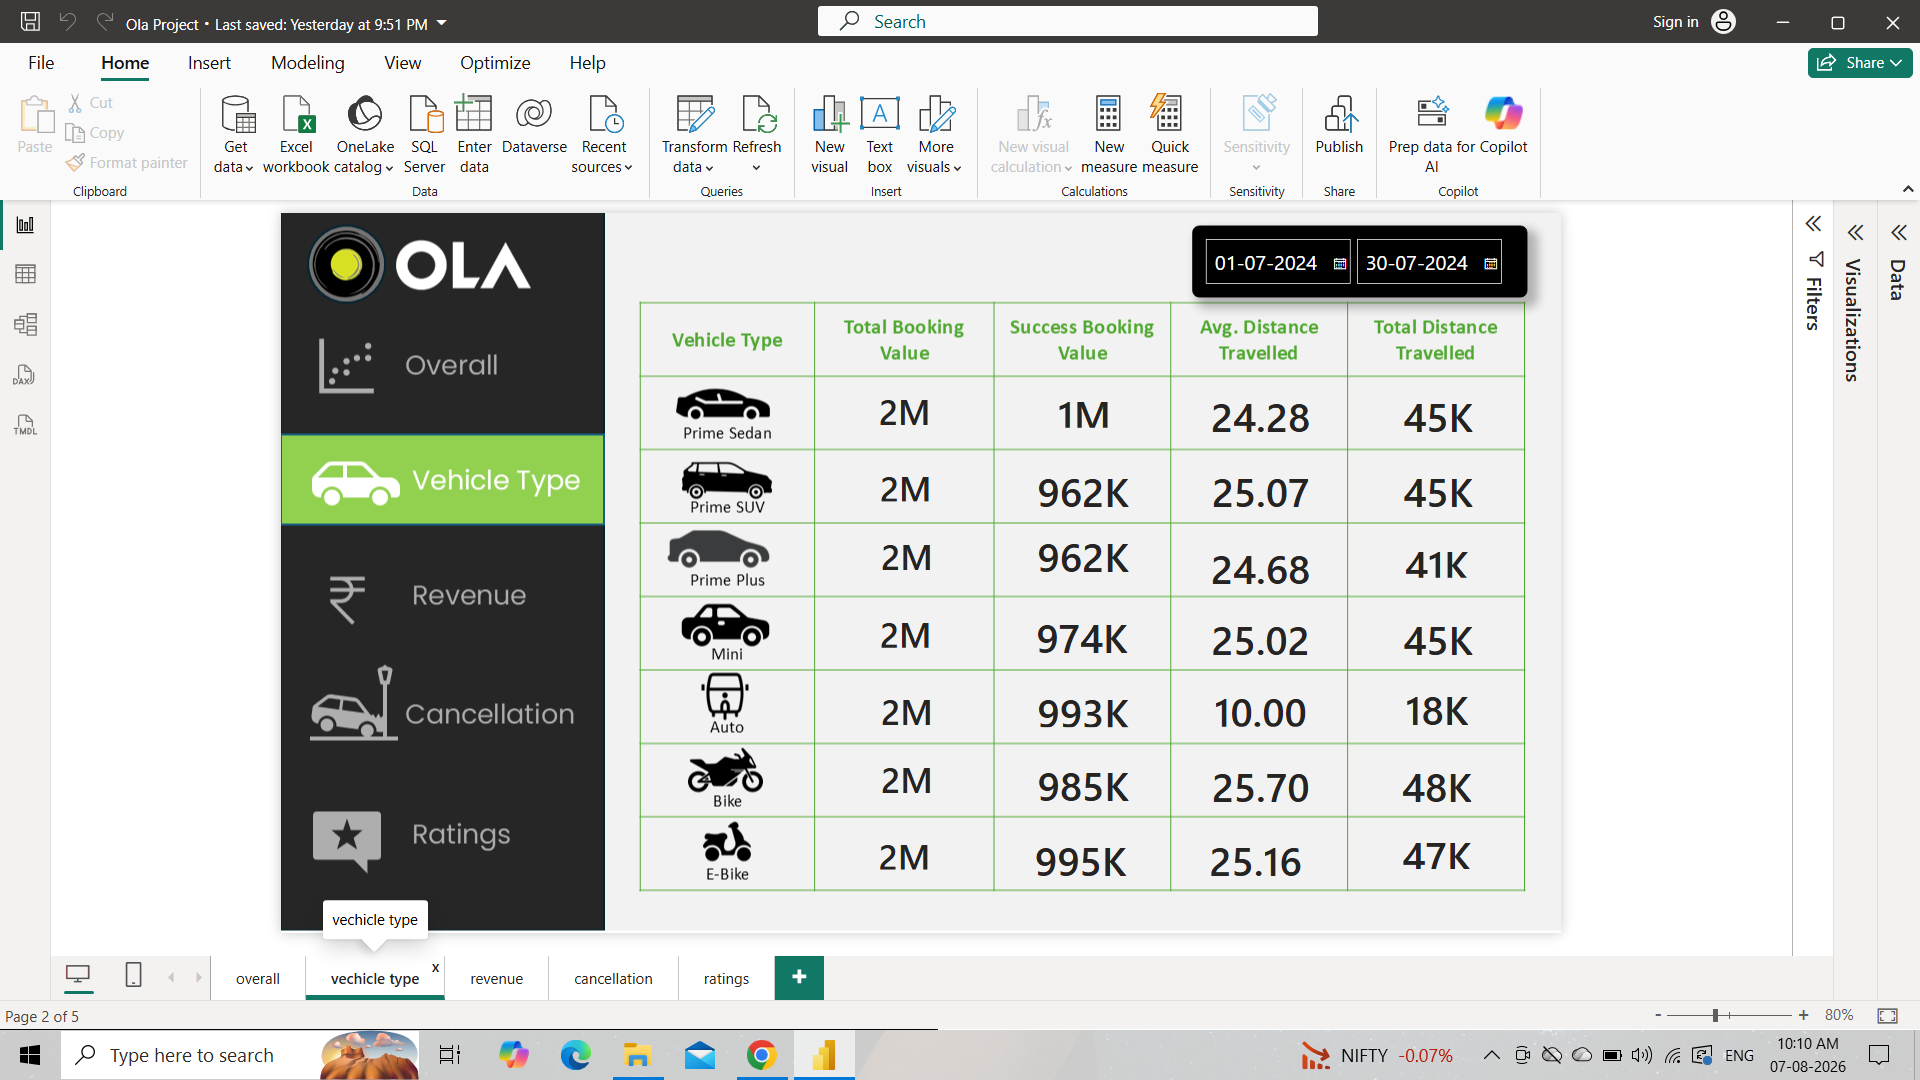

Layout of this report page (visuals, bound fields, positions):
{"tool":"powerbi","page":{"name":"vechicle type","canvas":[1280,720],"ordinal":1},"visuals":[{"type":"actionButton","box":[0,206.2,324,131.2],"z":0},{"type":"actionButton","box":[0,104.4,324,96.4],"z":1000},{"type":"actionButton","box":[0,337.4,324,96.4],"z":2000},{"type":"actionButton","box":[0,433.8,324,123.2],"z":3000},{"type":"actionButton","box":[0,575.7,324,144.6],"z":4000},{"type":"cardVisual","fields":{"Data":["Sum(booking2-July.Booking_Value)"]},"box":[534.5,163.1,177.4,69],"z":5000},{"type":"cardVisual","fields":{"Data":["Sum(booking2-July.Booking_Value)"]},"box":[535.2,237.4,177.4,69],"z":6000},{"type":"cardVisual","fields":{"Data":["Sum(booking2-July.Booking_Value)"]},"box":[533.8,607.9,177,67.2],"z":7000},{"type":"cardVisual","fields":{"Data":["Sum(booking2-July.Booking_Value)"]},"box":[536.5,529.7,177,68.6],"z":8000},{"type":"cardVisual","fields":{"Data":["Sum(booking2-July.Booking_Value)"]},"box":[536.5,461.1,177.4,69],"z":9000},{"type":"cardVisual","fields":{"Data":["Sum(booking2-July.Booking_Value)"]},"box":[535.2,384.2,177.4,69],"z":10000},{"type":"cardVisual","fields":{"Data":["Sum(booking2-July.Booking_Value)"]},"box":[536.5,306,177.4,69],"z":11000},{"type":"cardVisual","fields":{"Data":["Sum(booking2-July.Booking_Value)"]},"box":[713.6,163.3,177.4,69],"z":12000},{"type":"cardVisual","fields":{"Data":["Sum(booking2-July.Booking_Value)"]},"box":[713.1,238.1,177.4,76.2],"z":13000},{"type":"cardVisual","fields":{"Data":["Sum(booking2-July.Booking_Value)"]},"box":[713.1,302.4,177.4,77.4],"z":14000},{"type":"cardVisual","fields":{"Data":["Sum(booking2-July.Booking_Value)"]},"box":[710.7,382.1,177.4,78.6],"z":15000},{"type":"cardVisual","fields":{"Data":["Sum(booking2-July.Booking_Value)"]},"box":[713.1,460.7,177.4,71.4],"z":16000},{"type":"cardVisual","fields":{"Data":["Sum(booking2-July.Booking_Value)"]},"box":[713.1,529.8,177.4,78.6],"z":17000},{"type":"cardVisual","fields":{"Data":["Sum(booking2-July.Booking_Value)"]},"box":[709.5,604.8,177.4,78.6],"z":18000},{"type":"cardVisual","fields":{"Data":["Avg(booking2-July.Ride_Distance)"]},"box":[890.5,163.1,177.4,75],"z":19000},{"type":"cardVisual","fields":{"Data":["Avg(booking2-July.Ride_Distance)"]},"box":[890.5,238.1,177.4,76.2],"z":20000},{"type":"cardVisual","fields":{"Data":["Avg(booking2-July.Ride_Distance)"]},"box":[890.5,314.3,177.4,77.4],"z":21000},{"type":"cardVisual","fields":{"Data":["Avg(booking2-July.Ride_Distance)"]},"box":[890.5,384.5,177.4,76.2],"z":22000},{"type":"cardVisual","fields":{"Data":["Avg(booking2-July.Ride_Distance)"]},"box":[890.5,458.3,177.4,73.8],"z":23000},{"type":"cardVisual","fields":{"Data":["Avg(booking2-July.Ride_Distance)"]},"box":[890.5,532.1,177.4,76.2],"z":24000},{"type":"cardVisual","fields":{"Data":["Avg(booking2-July.Ride_Distance)"]},"box":[884.5,604.8,177.4,78.6],"z":25000},{"type":"cardVisual","fields":{"Data":["Sum(booking2-July.Ride_Distance)"]},"box":[1067.9,165.5,177.4,72.6],"z":26000},{"type":"cardVisual","fields":{"Data":["Sum(booking2-July.Ride_Distance)"]},"box":[1067.9,238.1,177.4,76.2],"z":27000},{"type":"cardVisual","fields":{"Data":["Sum(booking2-July.Ride_Distance)"]},"box":[1066.7,313.9,177.4,69],"z":28000},{"type":"cardVisual","fields":{"Data":["Sum(booking2-July.Ride_Distance)"]},"box":[1067.9,384.5,177.4,76.2],"z":29000},{"type":"cardVisual","fields":{"Data":["Sum(booking2-July.Ride_Distance)"]},"box":[1066.7,453.6,177.4,81],"z":30000},{"type":"cardVisual","fields":{"Data":["Sum(booking2-July.Ride_Distance)"]},"box":[1066.7,532.1,177.4,76.2],"z":31000},{"type":"cardVisual","fields":{"Data":["Sum(booking2-July.Ride_Distance)"]},"box":[1066.7,604.4,177.4,69],"z":32000},{"type":"slicer","title":"Date","fields":{"Values":["booking2-July.Date"]},"box":[910.7,11.9,335,72.2],"z":33000}]}

Visuals, with their boxes on the page's 1280x720 design canvas (x1, y1, x2, y2). These are canvas units, not pixel positions in the 1920x1080 screenshot, which may show the page scaled, cropped or inside an application window:
actionButton: box(0, 206, 324, 337)
actionButton: box(0, 104, 324, 201)
actionButton: box(0, 337, 324, 434)
actionButton: box(0, 434, 324, 557)
actionButton: box(0, 576, 324, 720)
cardVisual - Sum(booking2-July.Booking_Value): box(534, 163, 712, 232)
cardVisual - Sum(booking2-July.Booking_Value): box(535, 237, 713, 306)
cardVisual - Sum(booking2-July.Booking_Value): box(534, 608, 711, 675)
cardVisual - Sum(booking2-July.Booking_Value): box(536, 530, 714, 598)
cardVisual - Sum(booking2-July.Booking_Value): box(536, 461, 714, 530)
cardVisual - Sum(booking2-July.Booking_Value): box(535, 384, 713, 453)
cardVisual - Sum(booking2-July.Booking_Value): box(536, 306, 714, 375)
cardVisual - Sum(booking2-July.Booking_Value): box(714, 163, 891, 232)
cardVisual - Sum(booking2-July.Booking_Value): box(713, 238, 890, 314)
cardVisual - Sum(booking2-July.Booking_Value): box(713, 302, 890, 380)
cardVisual - Sum(booking2-July.Booking_Value): box(711, 382, 888, 461)
cardVisual - Sum(booking2-July.Booking_Value): box(713, 461, 890, 532)
cardVisual - Sum(booking2-July.Booking_Value): box(713, 530, 890, 608)
cardVisual - Sum(booking2-July.Booking_Value): box(710, 605, 887, 683)
cardVisual - Avg(booking2-July.Ride_Distance): box(890, 163, 1068, 238)
cardVisual - Avg(booking2-July.Ride_Distance): box(890, 238, 1068, 314)
cardVisual - Avg(booking2-July.Ride_Distance): box(890, 314, 1068, 392)
cardVisual - Avg(booking2-July.Ride_Distance): box(890, 384, 1068, 461)
cardVisual - Avg(booking2-July.Ride_Distance): box(890, 458, 1068, 532)
cardVisual - Avg(booking2-July.Ride_Distance): box(890, 532, 1068, 608)
cardVisual - Avg(booking2-July.Ride_Distance): box(884, 605, 1062, 683)
cardVisual - Sum(booking2-July.Ride_Distance): box(1068, 166, 1245, 238)
cardVisual - Sum(booking2-July.Ride_Distance): box(1068, 238, 1245, 314)
cardVisual - Sum(booking2-July.Ride_Distance): box(1067, 314, 1244, 383)
cardVisual - Sum(booking2-July.Ride_Distance): box(1068, 384, 1245, 461)
cardVisual - Sum(booking2-July.Ride_Distance): box(1067, 454, 1244, 535)
cardVisual - Sum(booking2-July.Ride_Distance): box(1067, 532, 1244, 608)
cardVisual - Sum(booking2-July.Ride_Distance): box(1067, 604, 1244, 673)
"Date" slicer: box(911, 12, 1246, 84)
